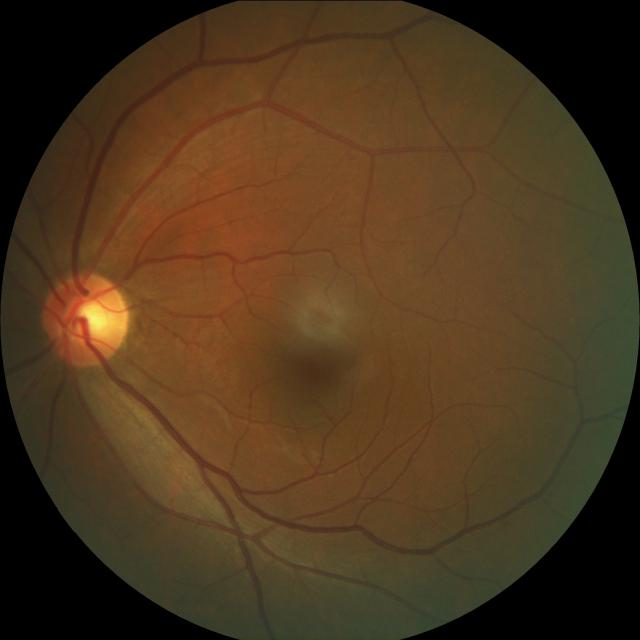OC: (62, 290, 115, 345)
OD: (44, 272, 131, 366)
